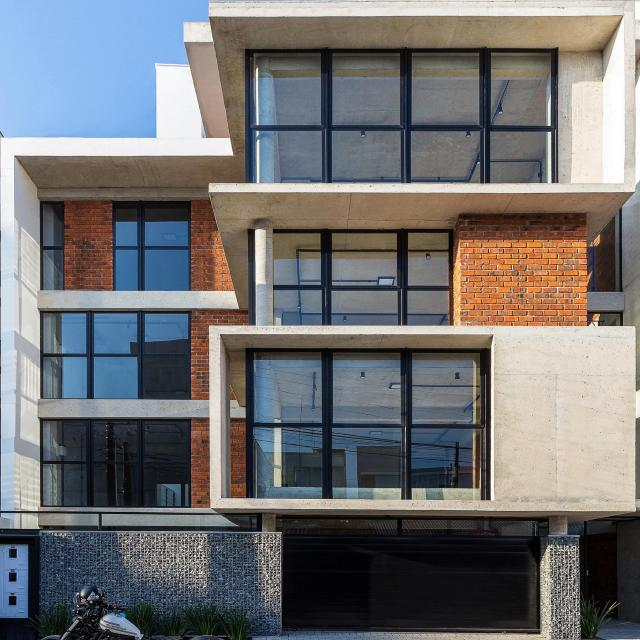door: (284, 516, 540, 636)
window: (250, 51, 556, 185), (253, 356, 487, 500), (272, 232, 452, 328), (43, 314, 193, 403), (43, 423, 189, 510), (115, 204, 191, 293), (43, 203, 64, 293)
